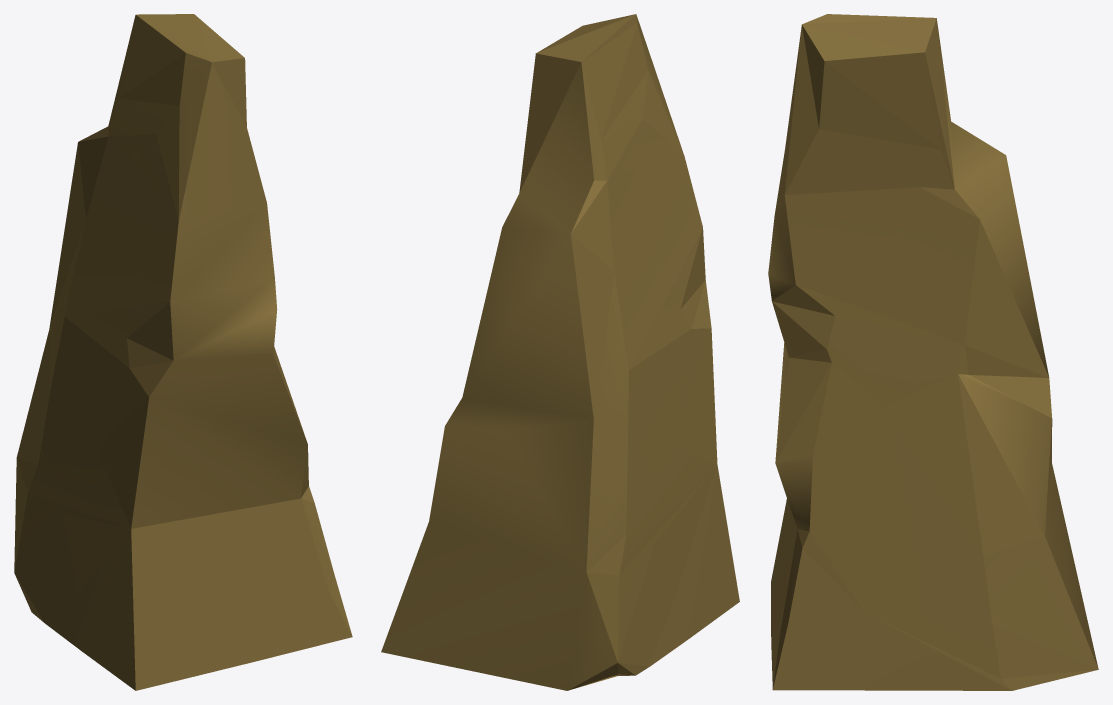
File: rune1.fbx
The picture shows the model from 3 angles, left to right: view 1: azimuth 30°, elevation 25°; view 2: azimuth 150°, elevation 25°; view 3: azimuth 270°, elevation 25°; orthographic projection. The views are drawn at different scales.
Visible parts, largest first — view 1: Pillar_09; view 2: Pillar_09; view 3: Pillar_09.
Part boxes in pixels (left/top/right/bottom): Pillar_09: left=14, top=14, right=352, bottom=690; Pillar_09: left=381, top=14, right=739, bottom=690; Pillar_09: left=768, top=14, right=1098, bottom=690.
Bounding box in the file's own units: 162 × 421 × 208.
